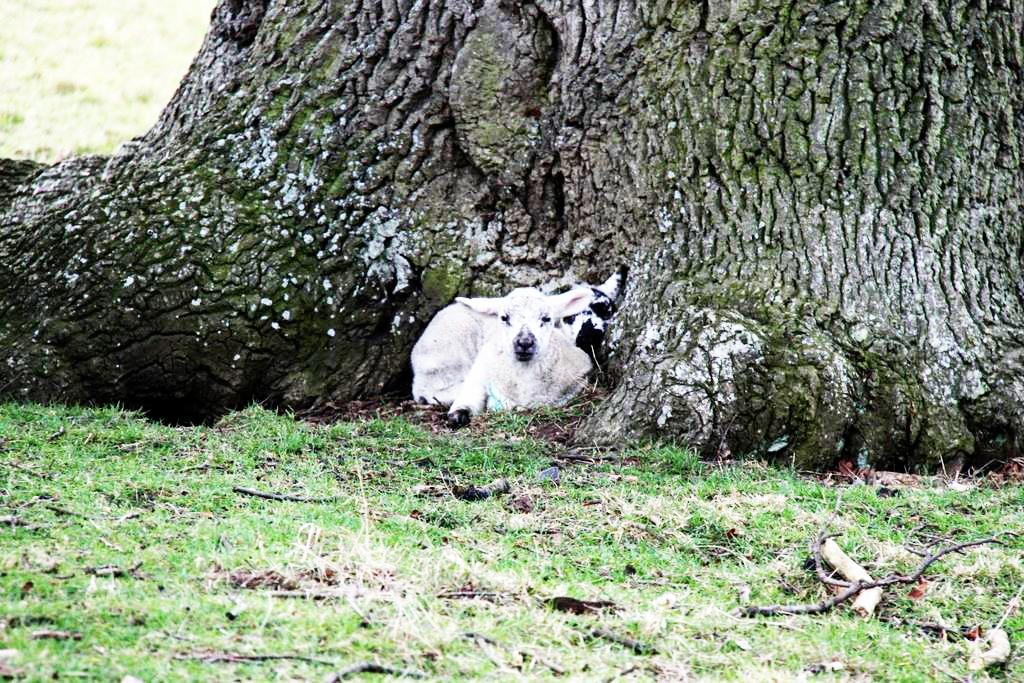Sheep: (409, 285, 594, 427)
